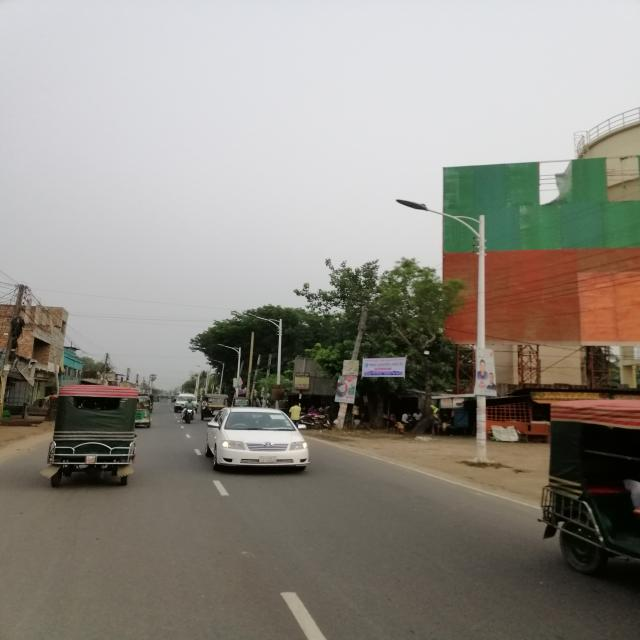Car: (206, 407, 316, 477)
Easybike: (43, 382, 152, 491)
